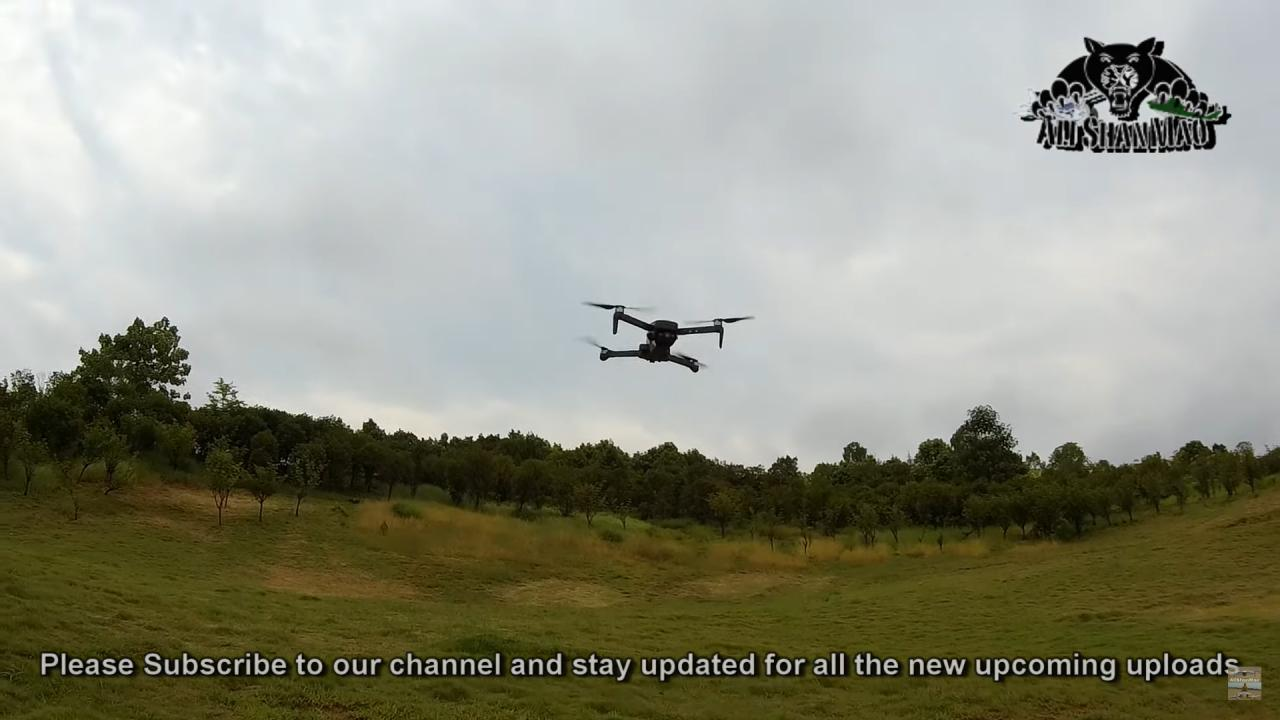Drone: (563, 284, 765, 385)
